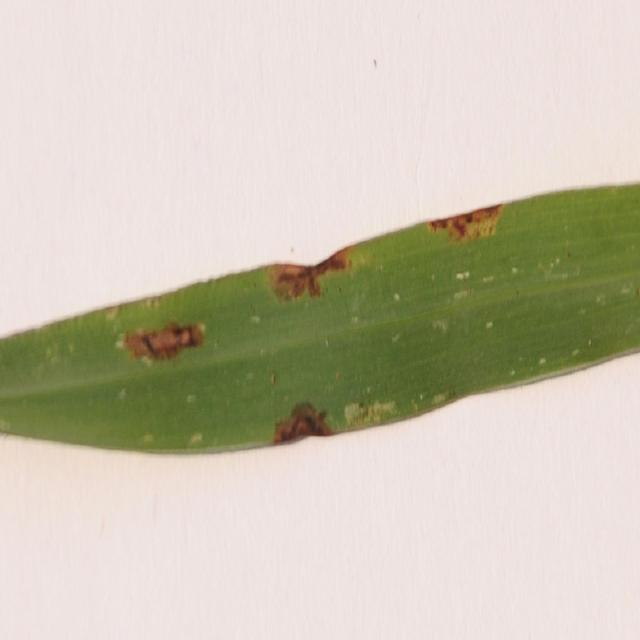Brown spot: (255, 248, 386, 310), (107, 319, 221, 382), (418, 205, 542, 258), (244, 398, 346, 448)
